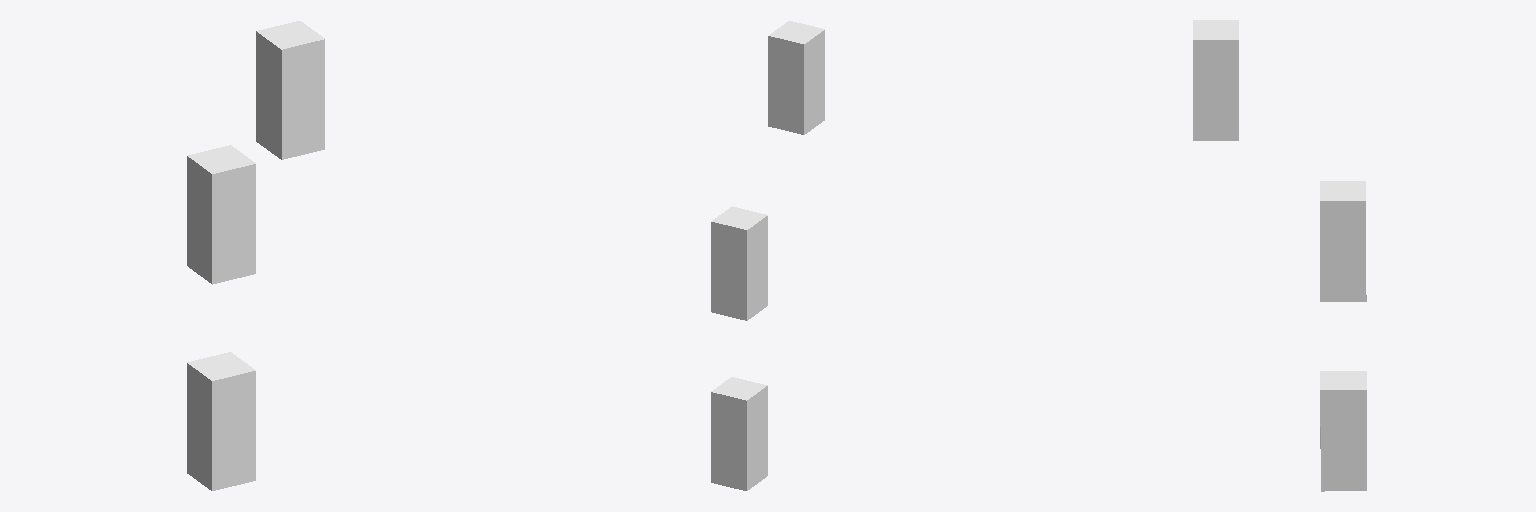
URDF robot description (mobile_manipulator):
<?xml version="1.0" encoding="utf-8"?>
<!-- =================================================================================== -->
<!-- |    This document was autogenerated by xacro from manipulator4.xacro             | -->
<!-- |    EDITING THIS FILE BY HAND IS NOT RECOMMENDED                                 | -->
<!-- =================================================================================== -->
<robot name="mobile_manipulator">
  <!--0.5624 height to start-->
  <material name="white">
    <color rgba="1 1 1 1"/>
  </material>
  <!-- MACROS -->
  <!-- LINKS -->
  <!-- the trans parameter present here is to toggle distance of current object with respect to previous adjacent object i.e. its parent-->
  <link name="base_link">
    <inertial>
      <origin rpy="0 0 0" xyz="0 0 0.5624"/>
      <mass value="0.00048"/>
      <inertia ixx="0.000050799110" ixy="0.0" ixz="0.0" iyy="0.00002857215" iyz="0.00000051457" izz="0.000043394"/>
    </inertial>
    <visual>
      <origin rpy="0 0 0" xyz="0 0 0.5624"/>
      <geometry>
        <box size="0.04 0.04 0.096"/>
      </geometry>
      <material name="white"/>
    </visual>
    <collision>
      <origin rpy="0 0 0" xyz="0 0 0.5624"/>
      <geometry>
        <box size="0.04 0.04 0.096"/>
      </geometry>
    </collision>
  </link>
  <link name="shoulder_yaw_motor">
    <inertial>
      <origin rpy="0 0 0 " xyz="0 0 0.0205"/>
      <mass value="0.140"/>
      <inertia ixx="0.000050799110" ixy="0.0" ixz="0.0" iyy="0.00002857215" iyz="0.00000051457" izz="0.000043394"/>
    </inertial>
    <visual>
      <origin rpy="0 0 0 " xyz="0 0 0.0205"/>
      <geometry>
        <mesh filename="package://mobile_manipulator/meshes/dynamixel_x64series.stl" scale="0.001 0.001 0.001"/>
      </geometry>
      <material name="white"/>
    </visual>
    <collision>
      <origin rpy="0 0 0" xyz="0 0 0.0205"/>
      <geometry>
        <mesh filename="package://mobile_manipulator/meshes/dynamixel_x64series.stl" scale="0.001 0.001 0.001"/>
      </geometry>
    </collision>
  </link>
  <link name="shoulder_roll_motor">
    <inertial>
      <origin rpy="0 0 0 " xyz="0 0.0481 0.0004"/>
      <mass value="0.140"/>
      <inertia ixx="0.000050799110" ixy="0.0" ixz="0.0" iyy="0.00002857215" iyz="0.00000051457" izz="0.000043394"/>
    </inertial>
    <visual>
      <origin rpy="0 0 0 " xyz="0 0.0481 0.0004"/>
      <geometry>
        <mesh filename="package://mobile_manipulator/meshes/dynamixel_x64series.stl" scale="0.001 0.001 0.001"/>
      </geometry>
      <material name="white"/>
    </visual>
    <collision>
      <origin rpy="0 0 0" xyz="0 0.0481 0.0004"/>
      <geometry>
        <mesh filename="package://mobile_manipulator/meshes/dynamixel_x64series.stl" scale="0.001 0.001 0.001"/>
      </geometry>
    </collision>
  </link>
  <link name="shoulder_pitch_motor">
    <inertial>
      <origin rpy="0 0 0" xyz="0 0.0481 0"/>
      <mass value="0.140"/>
      <inertia ixx="0.000050799110" ixy="0.0" ixz="0.0" iyy="0.00002857215" iyz="0.00000051457" izz="0.000043394"/>
    </inertial>
    <visual>
      <origin rpy="0.0 0.0 0" xyz="0 0.0481 0"/>
      <geometry>
        <mesh filename="package://mobile_manipulator/meshes/dynamixel_x64series.stl" scale="0.001 0.001 0.001"/>
      </geometry>
      <material name="white"/>
    </visual>
    <collision>
      <origin rpy="0 0 0" xyz="0 0.0481 0"/>
      <geometry>
        <mesh filename="package://mobile_manipulator/meshes/dynamixel_x64series.stl" scale="0.001 0.001 0.001"/>
      </geometry>
    </collision>
  </link>
  <link name="shoulder_bracket">
    <inertial>
      <origin rpy="0 0 0 " xyz="0 0 0.036"/>
      <mass value="0.00712"/>
      <inertia ixx="0.00000174511" ixy="0.0" ixz="0.0" iyy="0.00000379922" iyz="0.0" izz="0.00000357521"/>
    </inertial>
    <visual>
      <origin rpy="0 0 0 " xyz="0 0 0.036"/>
      <geometry>
        <mesh filename="package://mobile_manipulator/meshes/FR05-H101K.stl" scale="0.001 0.001 0.001"/>
      </geometry>
      <material name="white"/>
    </visual>
    <collision>
      <origin rpy="0 0 0 " xyz="0 0 0.036"/>
      <geometry>
        <mesh filename="package://mobile_manipulator/meshes/FR05-H101K.stl" scale="0.001 0.001 0.001"/>
      </geometry>
    </collision>
  </link>
  <link name="biscep">
    <inertial>
      <origin rpy="0 0 0" xyz="0 0 0.048"/>
      <mass value="0.00048"/>
      <inertia ixx="0.000050799110" ixy="0.0" ixz="0.0" iyy="0.00002857215" iyz="0.00000051457" izz="0.000043394"/>
    </inertial>
    <visual>
      <origin rpy="0 0 0" xyz="0 0 0.048"/>
      <geometry>
        <box size="0.04 0.04 0.096"/>
      </geometry>
      <material name="white"/>
    </visual>
    <collision>
      <origin rpy="0 0 0" xyz="0 0 0.048"/>
      <geometry>
        <box size="0.04 0.04 0.096"/>
      </geometry>
    </collision>
  </link>
  <link name="elbow_motor">
    <inertial>
      <origin rpy="0 0 0" xyz="0 0.0481 0"/>
      <mass value="0.140"/>
      <inertia ixx="0.000050799110" ixy="0.0" ixz="0.0" iyy="0.00002857215" iyz="0.00000051457" izz="0.000043394"/>
    </inertial>
    <visual>
      <origin rpy="0 0 0" xyz="0 0.0481 0"/>
      <geometry>
        <mesh filename="package://mobile_manipulator/meshes/dynamixel_x64series.stl" scale="0.001 0.001 0.001"/>
      </geometry>
      <material name="white"/>
    </visual>
    <collision>
      <origin rpy="0 0 0" xyz="0 0.0481 0"/>
      <geometry>
        <mesh filename="package://mobile_manipulator/meshes/dynamixel_x64series.stl" scale="0.001 0.001 0.001"/>
      </geometry>
    </collision>
  </link>
  <link name="elbow_bracket">
    <inertial>
      <origin rpy="0 0 0" xyz="0 0 0.036"/>
      <mass value="0.00712"/>
      <inertia ixx="0.00000174511" ixy="0.0" ixz="0.0" iyy="0.00000379922" iyz="0.0" izz="0.00000357521"/>
    </inertial>
    <visual>
      <origin rpy="0 0 0" xyz="0 0 0.036"/>
      <geometry>
        <mesh filename="package://mobile_manipulator/meshes/FR05-H101K.stl" scale="0.001 0.001 0.001"/>
      </geometry>
      <material name="white"/>
    </visual>
    <collision>
      <origin rpy="0 0 0" xyz="0 0 0.036"/>
      <geometry>
        <mesh filename="package://mobile_manipulator/meshes/FR05-H101K.stl" scale="0.001 0.001 0.001"/>
      </geometry>
    </collision>
  </link>
  <link name="forearm">
    <inertial>
      <origin rpy="0 0 0" xyz="0 0 0.048"/>
      <mass value="0.00048"/>
      <inertia ixx="0.000050799110" ixy="0.0" ixz="0.0" iyy="0.00002857215" iyz="0.00000051457" izz="0.000043394"/>
    </inertial>
    <visual>
      <origin rpy="0 0 0" xyz="0 0 0.048"/>
      <geometry>
        <box size="0.04 0.04 0.096"/>
      </geometry>
      <material name="white"/>
    </visual>
    <collision>
      <origin rpy="0 0 0" xyz="0 0 0.048"/>
      <geometry>
        <box size="0.04 0.04 0.096"/>
      </geometry>
    </collision>
  </link>
  <link name="wrist_bracket">
    <inertial>
      <origin rpy="0 0 0" xyz="0 0.052 0"/>
      <mass value="0.00712"/>
      <inertia ixx="0.00000174511" ixy="0.0" ixz="0.0" iyy="0.00000379922" iyz="0.0" izz="0.00000357521"/>
    </inertial>
    <visual>
      <origin rpy="0 0 0" xyz="0 0.052 0"/>
      <geometry>
        <mesh filename="package://mobile_manipulator/meshes/F4.stl" scale="0.001 0.001 0.001"/>
      </geometry>
      <material name="white"/>
    </visual>
    <collision>
      <origin rpy="0 0 0" xyz="0 0.052 0"/>
      <geometry>
        <mesh filename="package://mobile_manipulator/meshes/F4.stl" scale="0.001 0.001 0.001"/>
      </geometry>
    </collision>
  </link>
  <joint name="base_joint" type="fixed">
    <origin rpy="1.57 0 3.14" xyz="0 0.02 0.5624"/>
    <parent link="base_link"/>
    <child link="shoulder_yaw_motor"/>
  </joint>
  <joint name="shoulder_yaw" type="revolute">
    <origin rpy="1.57 0 0" xyz="0 0 0.041"/>
    <parent link="shoulder_yaw_motor"/>
    <child link="shoulder_roll_motor"/>
    <axis xyz="0 1 0"/>
    <limit effort="30" lower="-3.14" upper="3.14" velocity="1.0"/>
  </joint>
  <joint name="shoulder_roll" type="revolute">
    <origin rpy="1.57 0 1.57" xyz="0 0.0481 0.0205"/>
    <parent link="shoulder_roll_motor"/>
    <child link="shoulder_pitch_motor"/>
    <axis xyz="0 1 0"/>
    <limit effort="30" lower="-3.14" upper="3.14" velocity="1.0"/>
  </joint>
  <joint name="shoulder_pitch" type="revolute">
    <origin rpy="0 1.57 1.57" xyz="0 0.0481 0"/>
    <parent link="shoulder_pitch_motor"/>
    <child link="shoulder_bracket"/>
    <axis xyz="1 0 0"/>
    <limit effort="30" lower="-1.57" upper="1.57" velocity="1.0"/>
  </joint>
  <joint name="biceps_start" type="fixed">
    <origin rpy="0 0 3.14" xyz="0 0 0.036"/>
    <parent link="shoulder_bracket"/>
    <child link="biscep"/>
  </joint>
  <joint name="biceps_end" type="fixed">
    <origin rpy="1.57 0 1.57" xyz="0 0 0.096"/>
    <parent link="biscep"/>
    <child link="elbow_motor"/>
  </joint>
  <joint name="elbow_pitch" type="revolute">
    <origin rpy="0 1.57 1.57" xyz="0 0.0481 0"/>
    <parent link="elbow_motor"/>
    <child link="elbow_bracket"/>
    <axis xyz="1 0 0"/>
    <limit effort="30" lower="-1.57" upper="1.57" velocity="1.0"/>
  </joint>
  <joint name="forearm_start" type="fixed">
    <origin rpy="0 0 3.14" xyz="0 0 0.036"/>
    <parent link="elbow_bracket"/>
    <child link="forearm"/>
  </joint>
  <joint name="forearm_end" type="fixed">
    <origin rpy="1.57 0 1.57" xyz="0 0 0.096"/>
    <parent link="forearm"/>
    <child link="wrist_bracket"/>
  </joint>
</robot>

--- What the picture shows (computed from the rendered views, not written in the file) ---
3 views of the same robot in one strip: view 1: azimuth 30°, elevation 25°; view 2: azimuth 150°, elevation 25°; view 3: azimuth 270°, elevation 25° (orthographic).
Model mobile_manipulator with 10 links and 9 joints (4 revolute, 5 fixed), rooted at base_link, posed all joints at 0.
Visible links, largest first — view 1: base_link, forearm, biscep; view 2: forearm, base_link, biscep; view 3: forearm, biscep, base_link.
Boxes of the visible links, x1,y1,x2,y2 form: base_link: [256, 21, 324, 159]; forearm: [187, 352, 255, 490]; biscep: [187, 145, 255, 284]; forearm: [711, 377, 767, 490]; base_link: [768, 21, 824, 134]; biscep: [711, 206, 767, 320]; forearm: [1320, 371, 1366, 491]; biscep: [1320, 181, 1366, 301]; base_link: [1193, 20, 1238, 140].
Size in the robot's own frame: 0.0403 by 0.1501 by 0.4287 metres.
Meshes: 3 distinct files referenced, 0 mesh visuals loaded (none loaded); not drawn: 7 (reference not matched to a file when rendering).